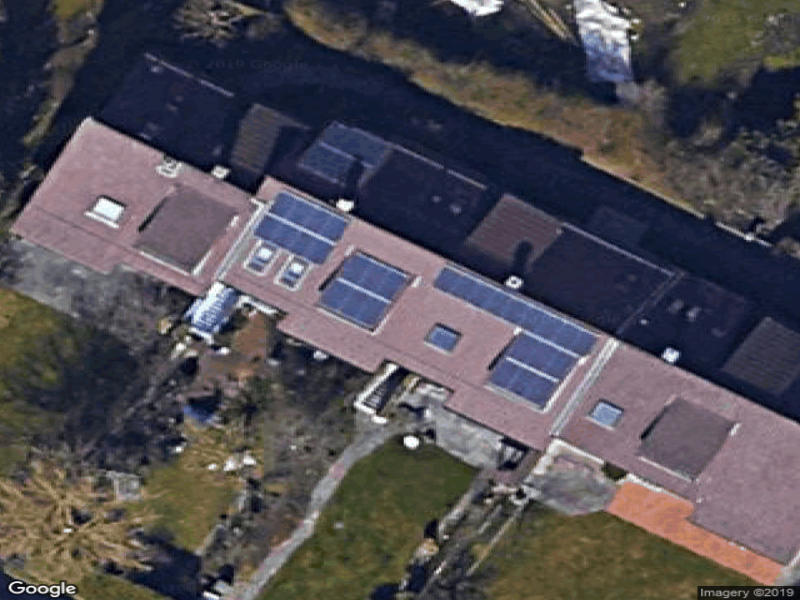pv: (438, 266, 601, 416), (320, 251, 407, 334), (264, 192, 349, 266)
